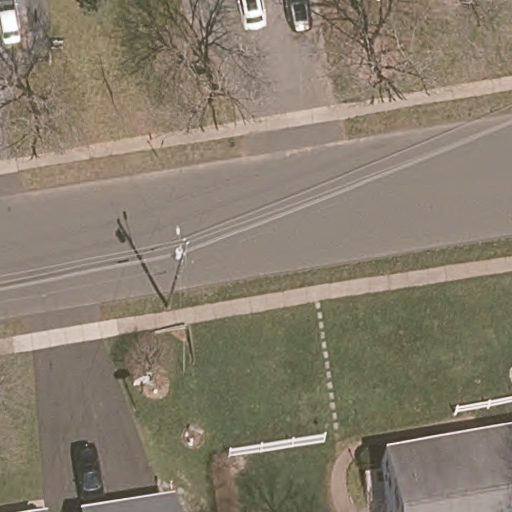DT: (163, 225, 191, 312)
